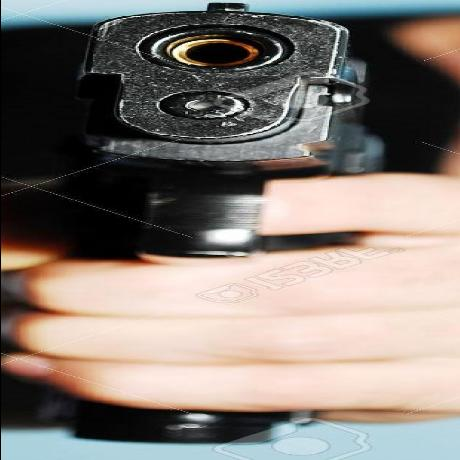weapon: (4, 0, 352, 247)
